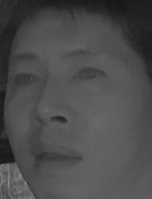eye: (70, 64, 109, 84), (10, 69, 40, 89)
mouth: (29, 138, 85, 171)
